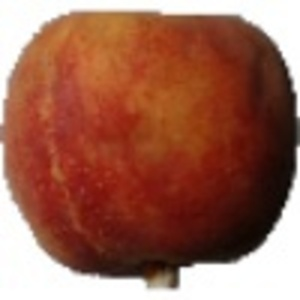pêssego: (1, 7, 300, 292)
